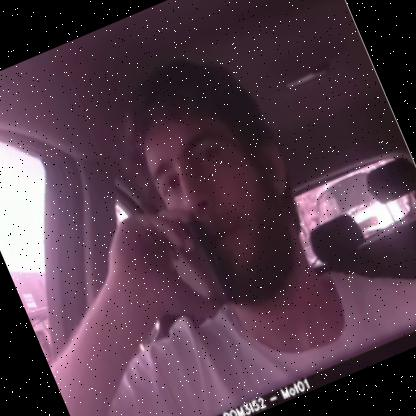phone: (146, 195, 237, 323)
